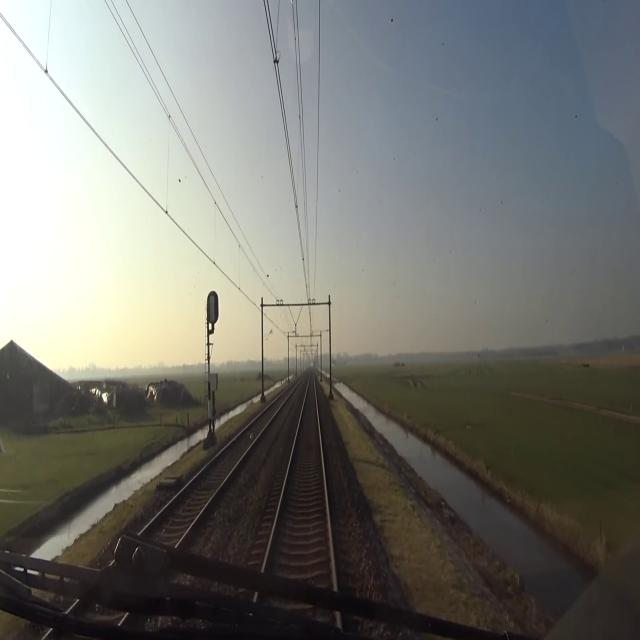rail-track: (141, 391, 289, 547), (264, 378, 333, 596)
